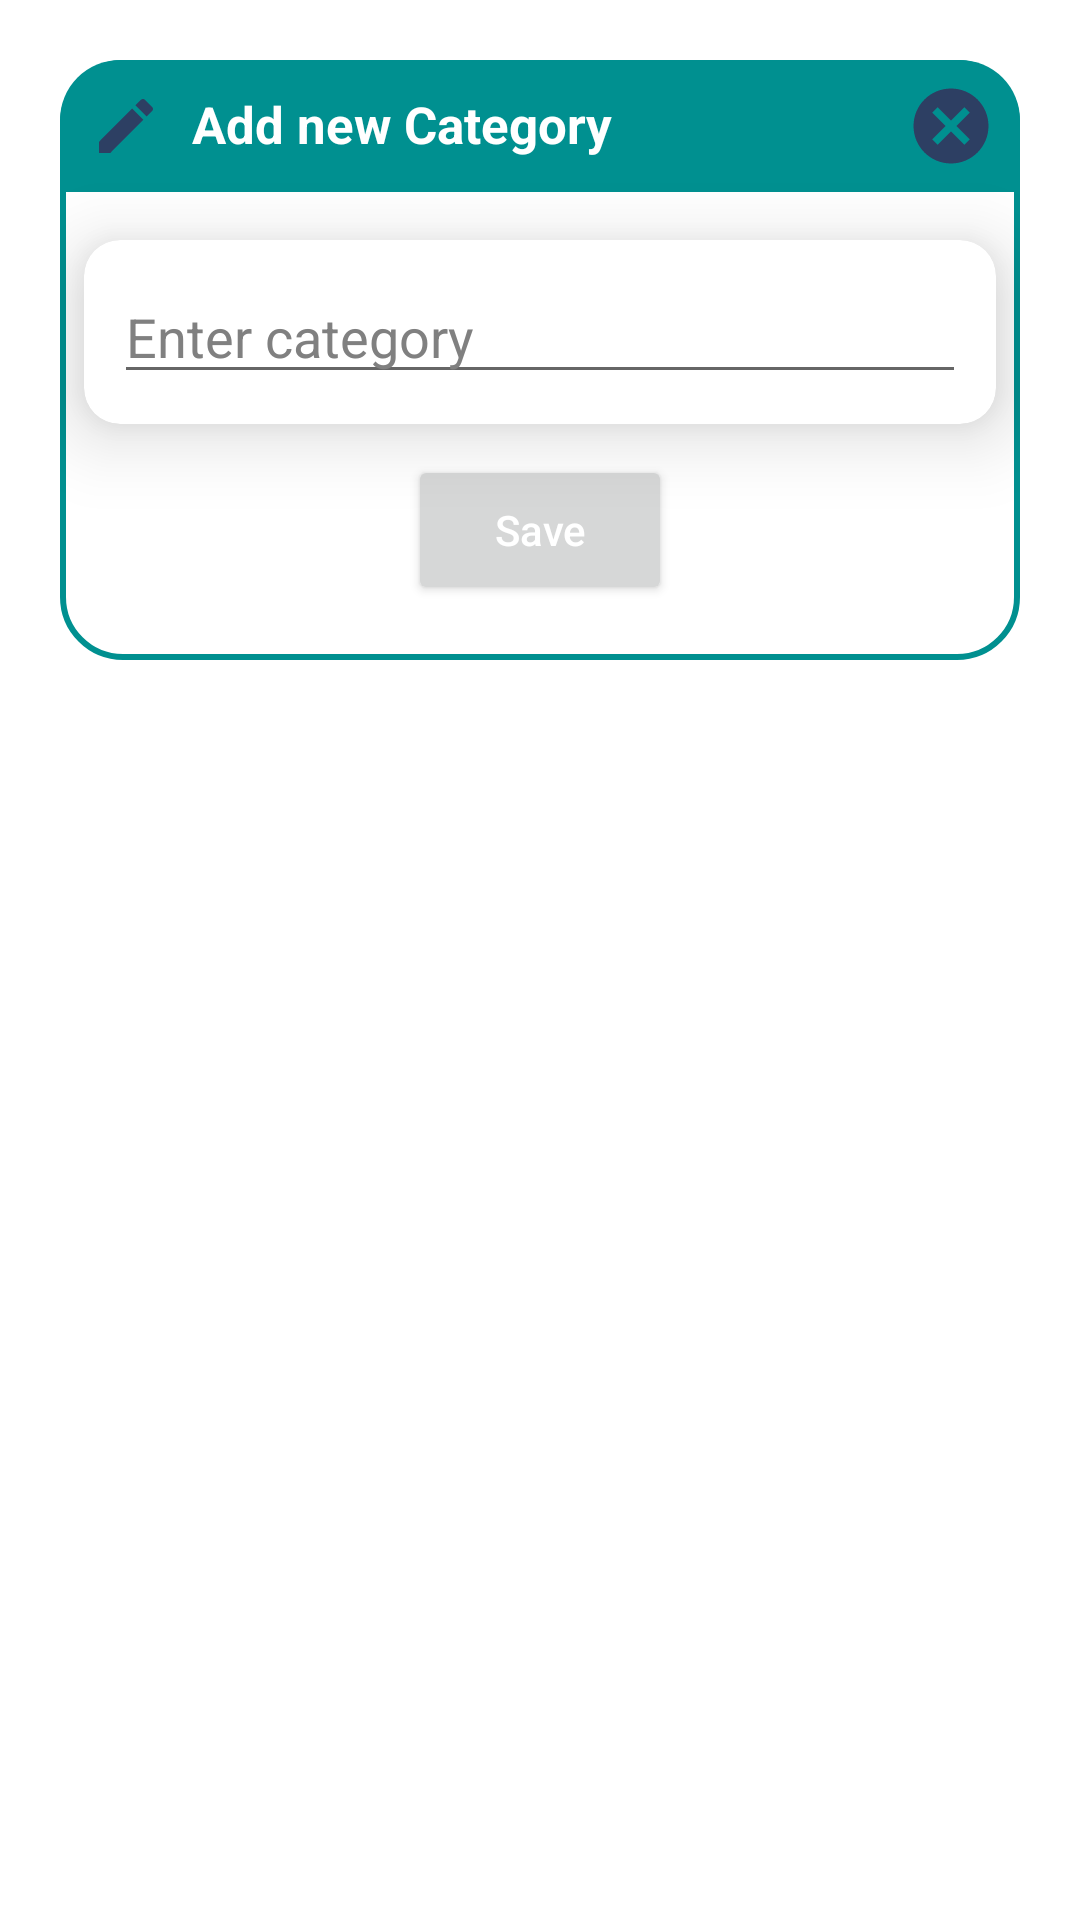

Point at icon controls on the screen. Image size 1080w x 1920h, points as (x,y).
cancel: (951,126)
